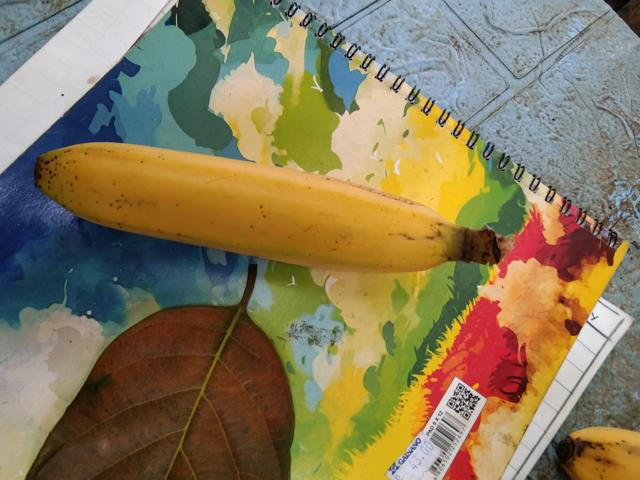freshripe: (26, 130, 453, 287)
